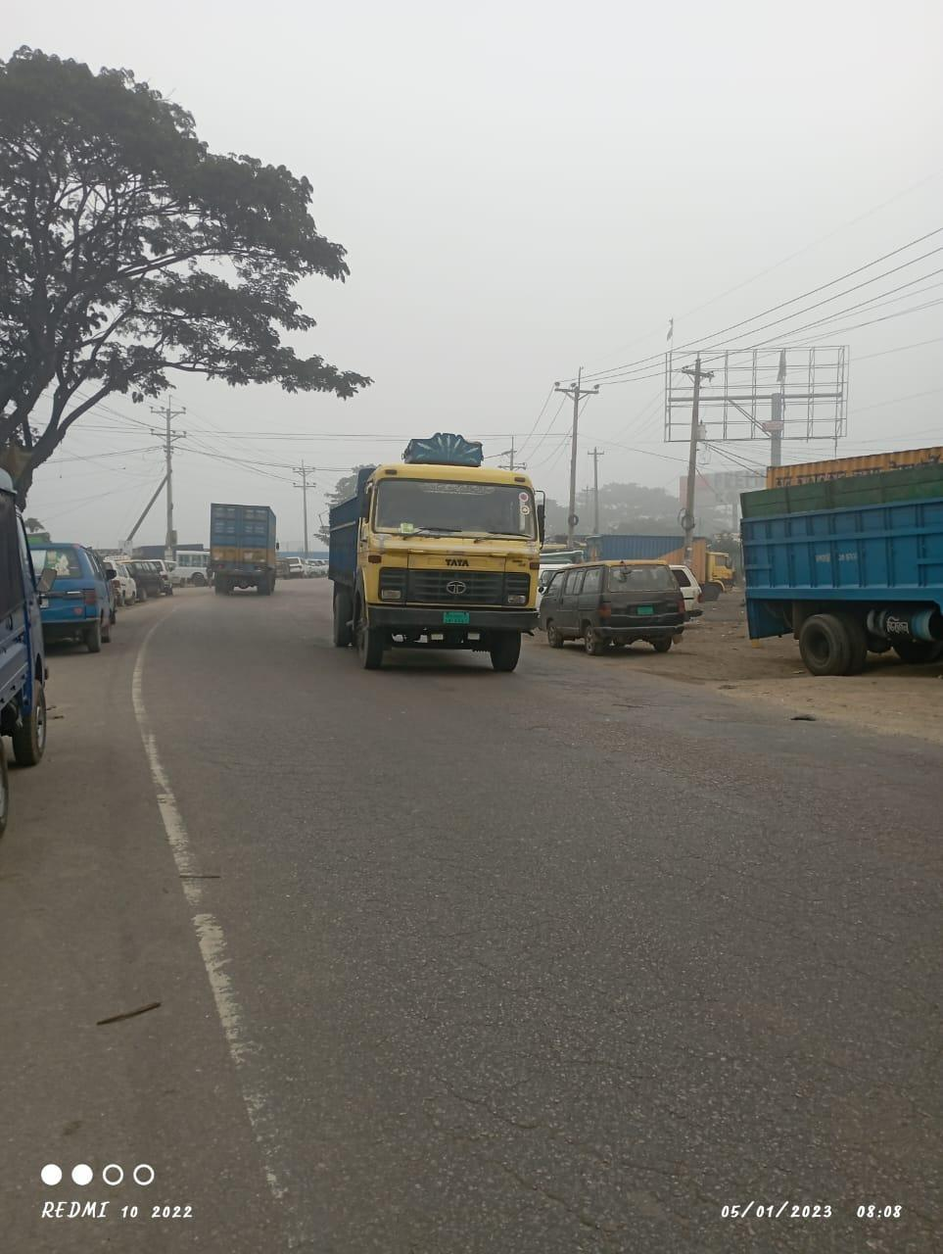Car: (541, 555, 698, 665), (31, 518, 127, 662)
Truck: (318, 424, 556, 678), (719, 442, 938, 669), (201, 498, 287, 601)
